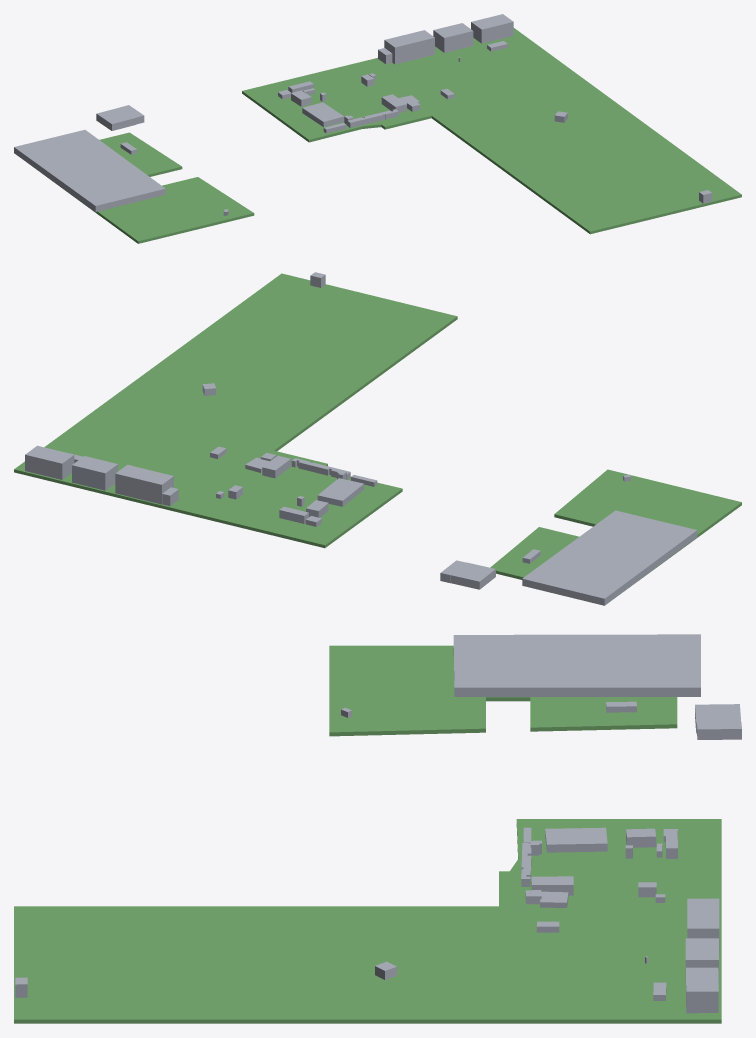
Rendered from SM_Blockout_Fondale_v5.fbx.
The picture shows the model from 3 angles, top to bottom: view 1: azimuth 30°, elevation 25°; view 2: azimuth 150°, elevation 25°; view 3: azimuth 270°, elevation 25°; orthographic projection. The views are drawn at different scales.
Parts seen in each view (by area): view 1: SM_Blockout_Fondale_v5_Terreno, SM_Blockout_Fondale_v5_Edifici; view 2: SM_Blockout_Fondale_v5_Terreno, SM_Blockout_Fondale_v5_Edifici; view 3: SM_Blockout_Fondale_v5_Terreno, SM_Blockout_Fondale_v5_Edifici.
Boxes of the visible parts, bbox=[...] form: SM_Blockout_Fondale_v5_Terreno: bbox=[37, 28, 741, 243]; SM_Blockout_Fondale_v5_Edifici: bbox=[14, 14, 712, 215]; SM_Blockout_Fondale_v5_Terreno: bbox=[14, 273, 741, 587]; SM_Blockout_Fondale_v5_Edifici: bbox=[25, 272, 697, 605]; SM_Blockout_Fondale_v5_Terreno: bbox=[14, 645, 721, 1023]; SM_Blockout_Fondale_v5_Edifici: bbox=[15, 634, 741, 1013].
Size of what is drawn, in the model's own units: 60332 by 49388 by 2249.
